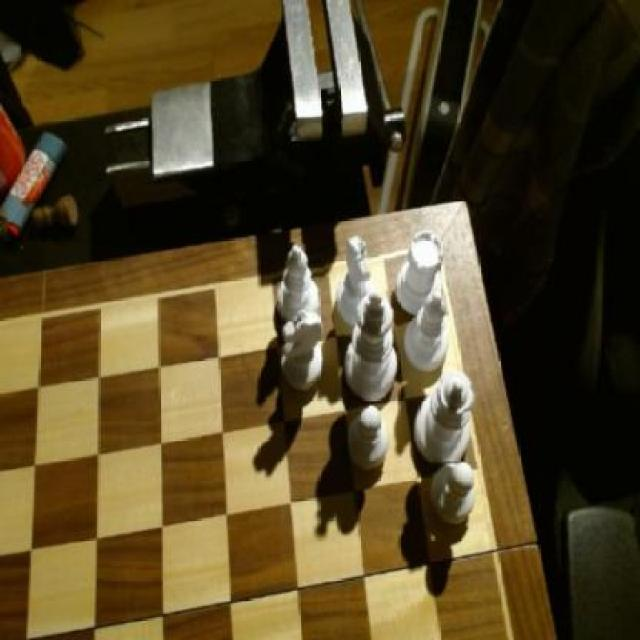black-rook: (404, 296, 454, 374), (277, 243, 325, 324)
white-king: (337, 235, 380, 330), (282, 309, 329, 391)
white-knight: (344, 292, 398, 404), (432, 458, 482, 527), (351, 406, 391, 472)
white-queen: (397, 228, 448, 320)
